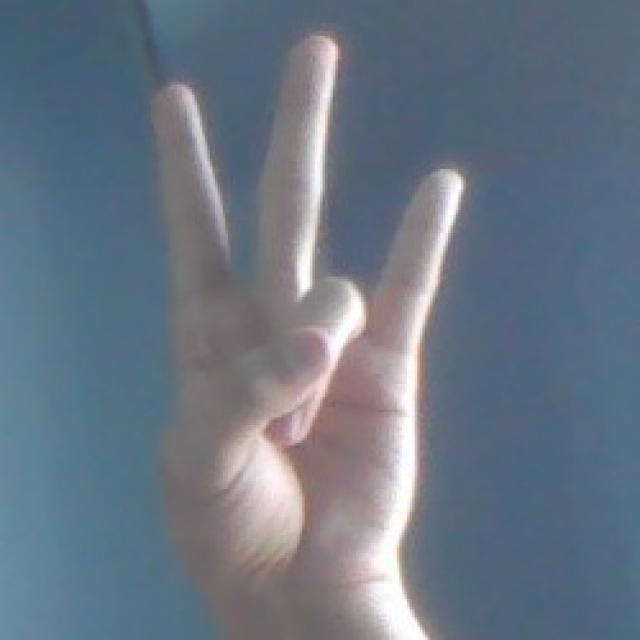Numeric-7: (126, 24, 464, 610)
